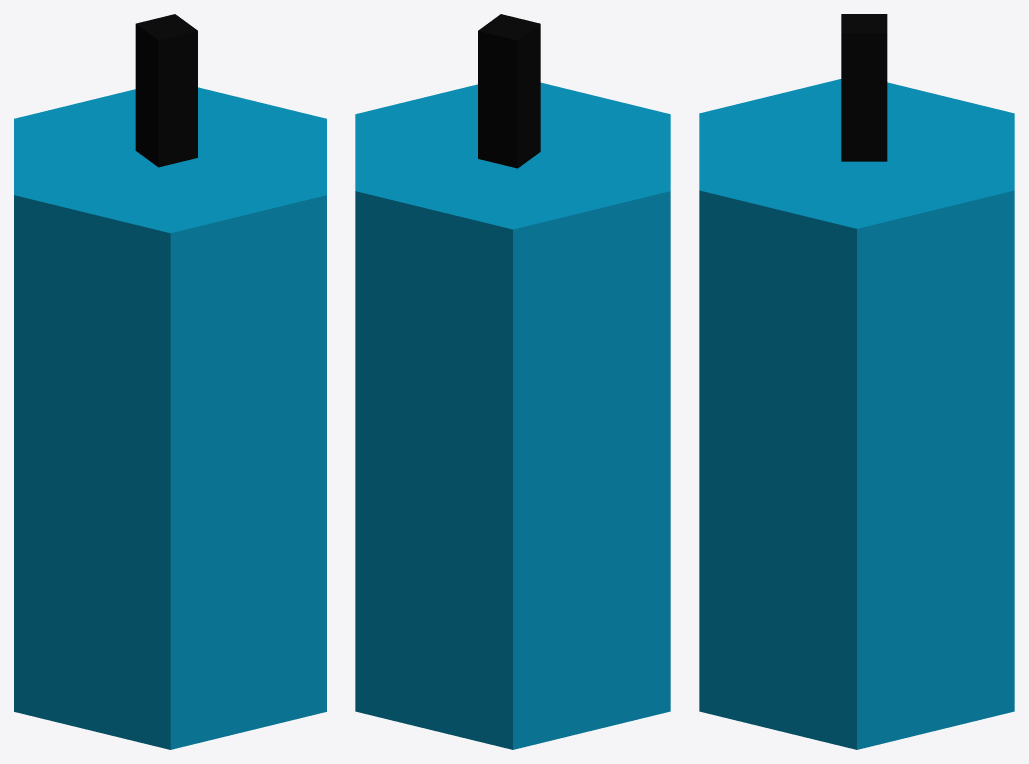
File: kynttila3_blue.FBX
3 views of the same model, side by side, from view 1: azimuth 30°, elevation 25°; view 2: azimuth 150°, elevation 25°; view 3: azimuth 270°, elevation 25° (orthographic).
Parts seen in each view (by area): view 1: Kynttila3_blue; view 2: Kynttila3_blue; view 3: Kynttila3_blue.
Boxes of the visible parts, box(x1,y1,x2,y2) form: Kynttila3_blue: box(14, 14, 326, 749); Kynttila3_blue: box(355, 14, 670, 749); Kynttila3_blue: box(699, 14, 1014, 749).
Size of the model in its own units: 19.01 by 37.38 by 16.46.
